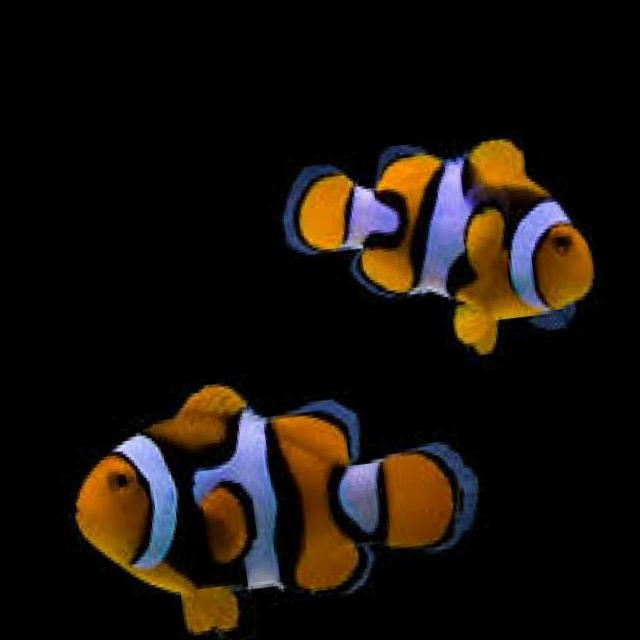ClownFish: (58, 351, 490, 640), (272, 97, 606, 372)
